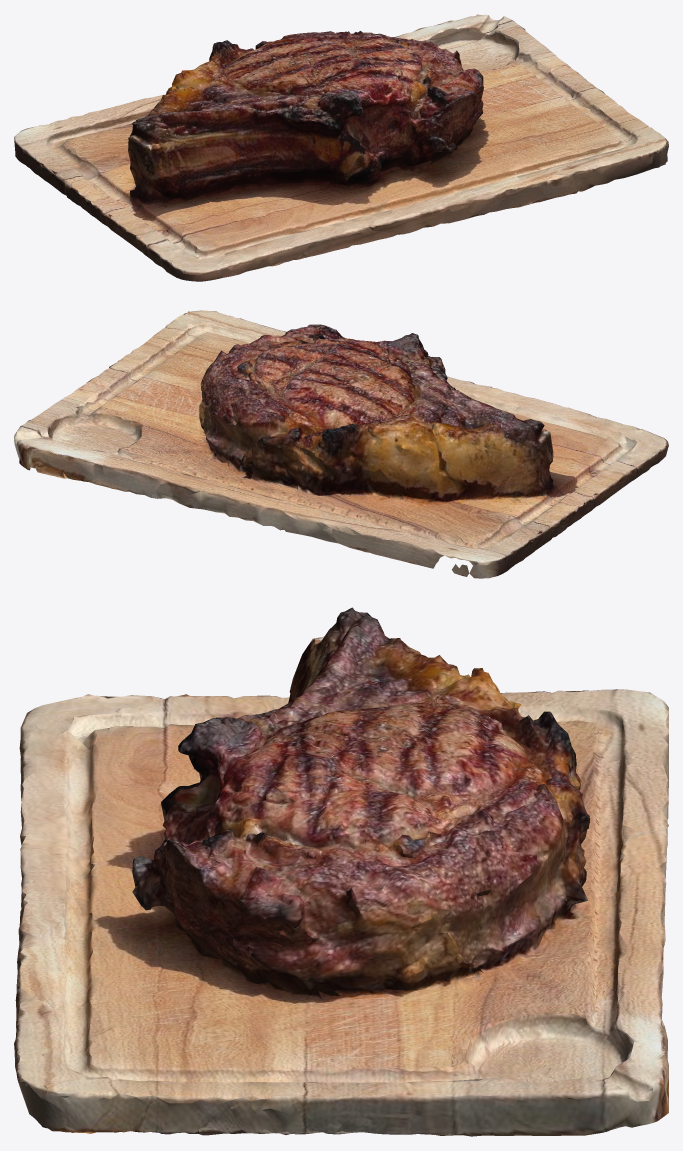
Rendered from bife-tabua-v03.glb.
3 renders of one model, top to bottom at view 1: azimuth 30°, elevation 25°; view 2: azimuth 150°, elevation 25°; view 3: azimuth 270°, elevation 25°, orthographic. The views are drawn at different scales.
Visible parts, largest first — view 1: Object_4; view 2: Object_4; view 3: Object_4.
Part boxes in pixels (x1,y1,x2,y2): Object_4: (14, 14, 668, 281); Object_4: (14, 310, 668, 578); Object_4: (14, 607, 668, 1136).
Size of the model in its own units: 0.32 by 0.0626 by 0.2094.
Materials: 1 (1 with a texture image).
